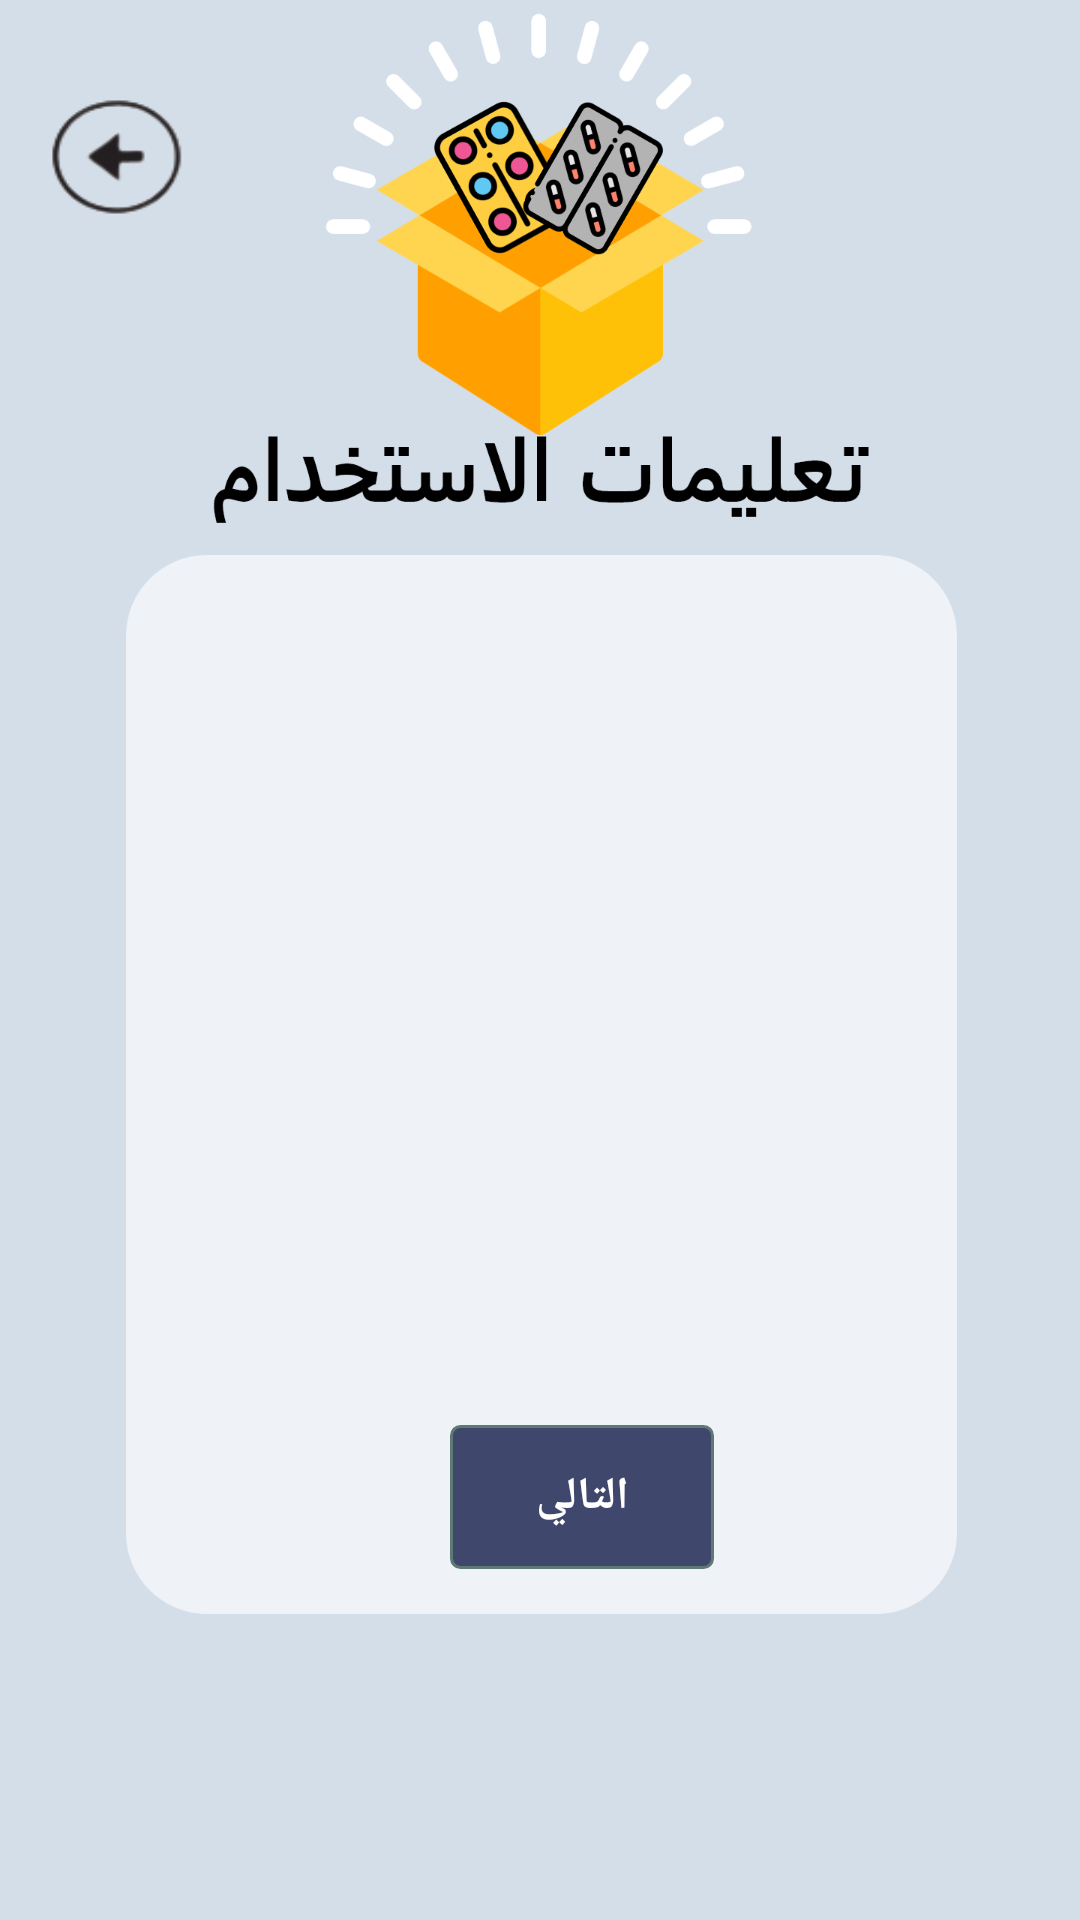

Icon bounding boxes for this 1080 x 1920 phone screenshot, format detection(x1, y1, x2, y2):
backbutton: detection(52, 100, 182, 214)
